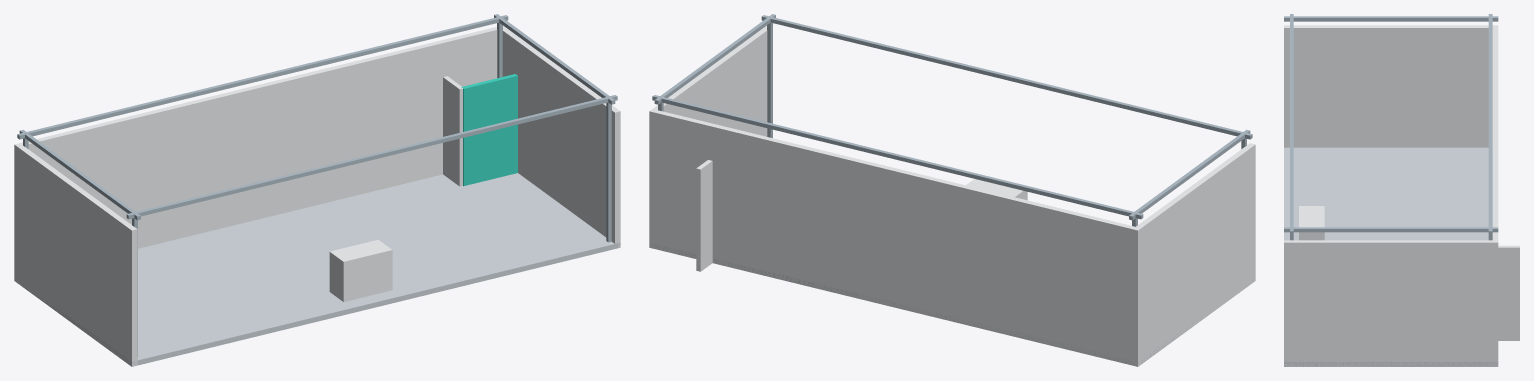
The picture shows the model from 3 angles, left to right: view 1: azimuth 30°, elevation 25°; view 2: azimuth 150°, elevation 25°; view 3: azimuth 270°, elevation 25°; orthographic projection. The views are drawn at different scales.
Visible parts, largest first — view 1: Exhibition Booth Concept; view 2: Exhibition Booth Concept; view 3: Exhibition Booth Concept.
Boxes of the visible parts, x1,y1,x2,y2 form: Exhibition Booth Concept: (14, 14, 620, 366); Exhibition Booth Concept: (649, 14, 1255, 366); Exhibition Booth Concept: (1284, 14, 1519, 366).
Size of the model in its own units: 12 by 3.49 by 5.51.
